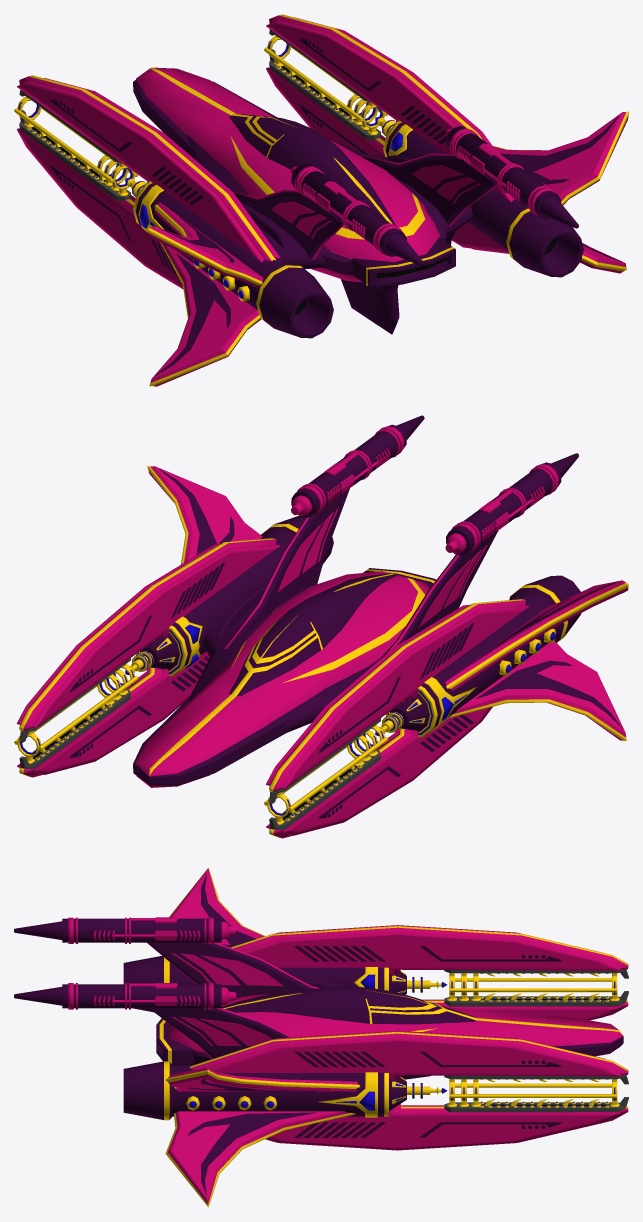
The model's file is AlienStarfighter28.obj.
3 renders of one model, top to bottom at view 1: azimuth 30°, elevation 25°; view 2: azimuth 150°, elevation 25°; view 3: azimuth 270°, elevation 25°, orthographic. The views are drawn at different scales.
Parts seen in each view (by area): view 1: Cylinder.003_Cylinder.005, Sphere.002_Sphere.004, Cylinder.001_Cylinder.006, Cube.001, Cylinder.004_Cylinder.002, Cube.004_Cube.002, Sphere.001_Sphere.003, Cube.005, Cylinder.010_Cylinder.003, Cube.006, Cylinder.006_Cylinder.007, Cube.022_Cube.033 (+12 smaller); view 2: Cylinder.003_Cylinder.005, Sphere.002_Sphere.004, Cylinder.001_Cylinder.006, Sphere.001_Sphere.003, Cube.005, Cube.001, Cylinder.004_Cylinder.002, Cube.004_Cube.002, Cylinder.010_Cylinder.003, Cube.006, Cube.010, Cube.022_Cube.033 (+8 smaller); view 3: Cylinder.003_Cylinder.005, Cylinder.001_Cylinder.006, Sphere.002_Sphere.004, Cylinder.004_Cylinder.002, Cube.001, Sphere.001_Sphere.003, Cube.004_Cube.002, Cube.006, Cube.005, Cylinder.022_Cylinder.030, Cube.010, Cube.022_Cube.033 (+9 smaller).
Part boxes in pixels (left/top/right/bottom): Cylinder.003_Cylinder.005: left=17, top=14, right=516, bottom=288; Sphere.002_Sphere.004: left=133, top=67, right=455, bottom=287; Cylinder.001_Cylinder.006: left=125, top=116, right=583, bottom=338; Cube.001: left=230, top=153, right=496, bottom=259; Cylinder.004_Cylinder.002: left=291, top=126, right=578, bottom=266; Cube.004_Cube.002: left=149, top=242, right=626, bottom=386; Sphere.001_Sphere.003: left=229, top=114, right=395, bottom=225; Cube.005: left=147, top=111, right=628, bottom=287; Cylinder.010_Cylinder.003: left=183, top=135, right=473, bottom=269; Cube.006: left=19, top=29, right=380, bottom=201; Cylinder.006_Cylinder.007: left=341, top=279, right=399, bottom=334; Cube.022_Cube.033: left=156, top=243, right=622, bottom=375; Cylinder.003_Cylinder.005: left=17, top=538, right=529, bottom=838; Sphere.002_Sphere.004: left=133, top=568, right=436, bottom=787; Cylinder.001_Cylinder.006: left=125, top=516, right=581, bottom=737; Sphere.001_Sphere.003: left=229, top=573, right=397, bottom=696; Cube.005: left=147, top=466, right=628, bottom=691; Cube.001: left=223, top=488, right=498, bottom=661; Cylinder.004_Cylinder.002: left=291, top=415, right=578, bottom=555; Cube.004_Cube.002: left=447, top=640, right=626, bottom=740; Cylinder.010_Cylinder.003: left=188, top=586, right=379, bottom=732; Cube.006: left=19, top=658, right=380, bottom=830; Cube.010: left=171, top=562, right=473, bottom=751; Cube.022_Cube.033: left=475, top=660, right=622, bottom=728; Cylinder.003_Cylinder.005: left=189, top=925, right=628, bottom=1150; Cylinder.001_Cylinder.006: left=123, top=956, right=447, bottom=1120; Sphere.002_Sphere.004: left=156, top=994, right=623, bottom=1076; Cylinder.004_Cylinder.002: left=14, top=918, right=236, bottom=1008; Cube.001: left=147, top=942, right=319, bottom=1059; Sphere.001_Sphere.003: left=221, top=986, right=476, bottom=1024; Cube.004_Cube.002: left=165, top=1111, right=355, bottom=1206; Cube.006: left=444, top=969, right=628, bottom=1112; Cube.005: left=166, top=868, right=360, bottom=1091; Cylinder.022_Cylinder.030: left=449, top=978, right=616, bottom=1097; Cube.010: left=294, top=946, right=385, bottom=1137; Cube.022_Cube.033: left=188, top=1112, right=316, bottom=1195.
Size of the model in its own units: 6.19 by 2.28 by 7.88.
